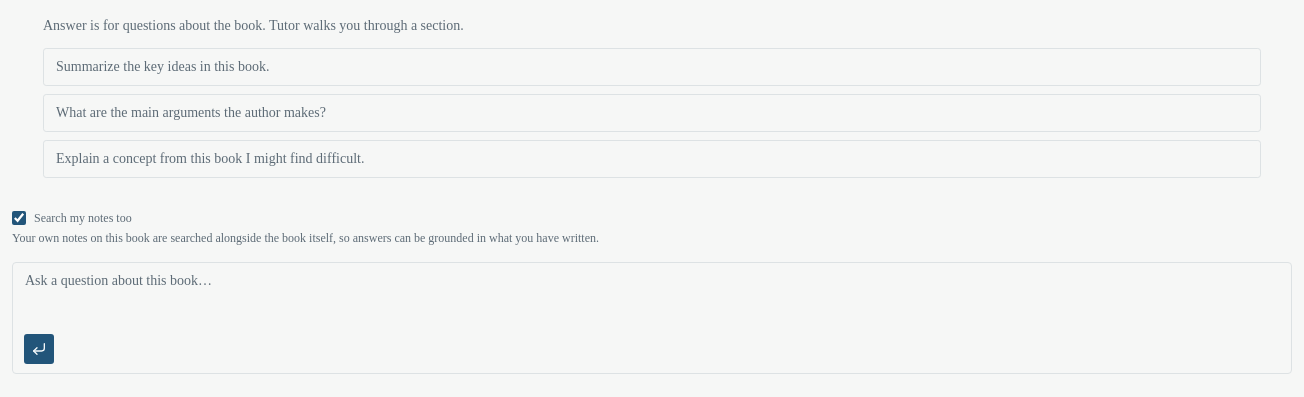
Test: AskPanel keeps the thread when a turn fails › never deletes the conversation its first message created when the stream errors
Type "a question that fails" into the text box with placeholder "Ask a question about this book…" at x=652, y=295, box [13, 263, 1291, 327]
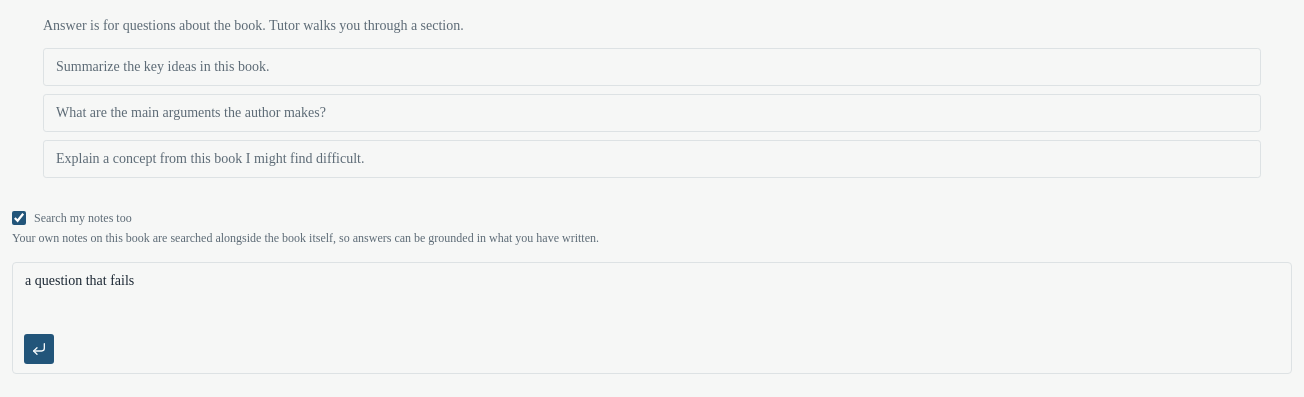
Click the button named "Submit" at x=39, y=349, box [23, 333, 55, 365]
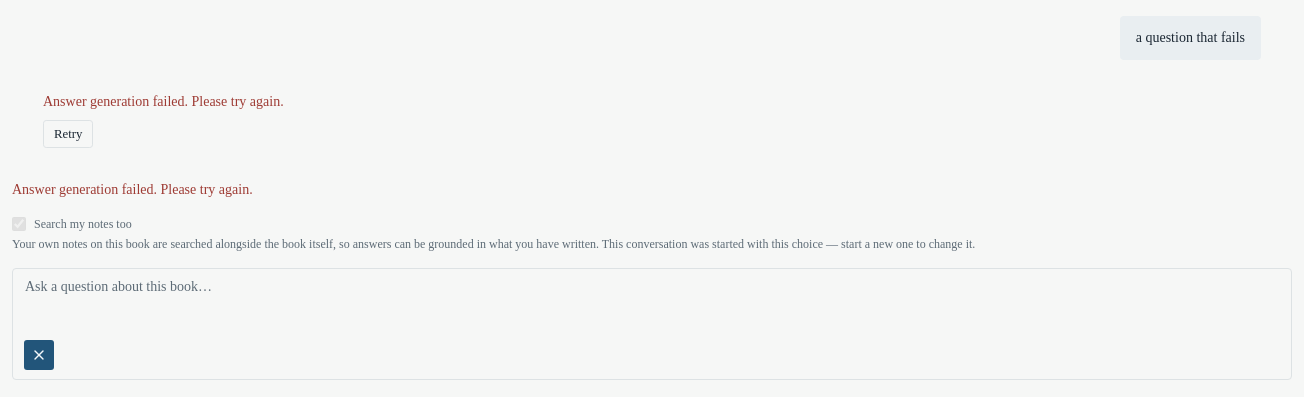
Expected: the message "Answer generation failed. Please try again." is shown, [12, 182, 253, 197]
Expected: the text "a question that fails" is shown, [1136, 28, 1245, 48]
